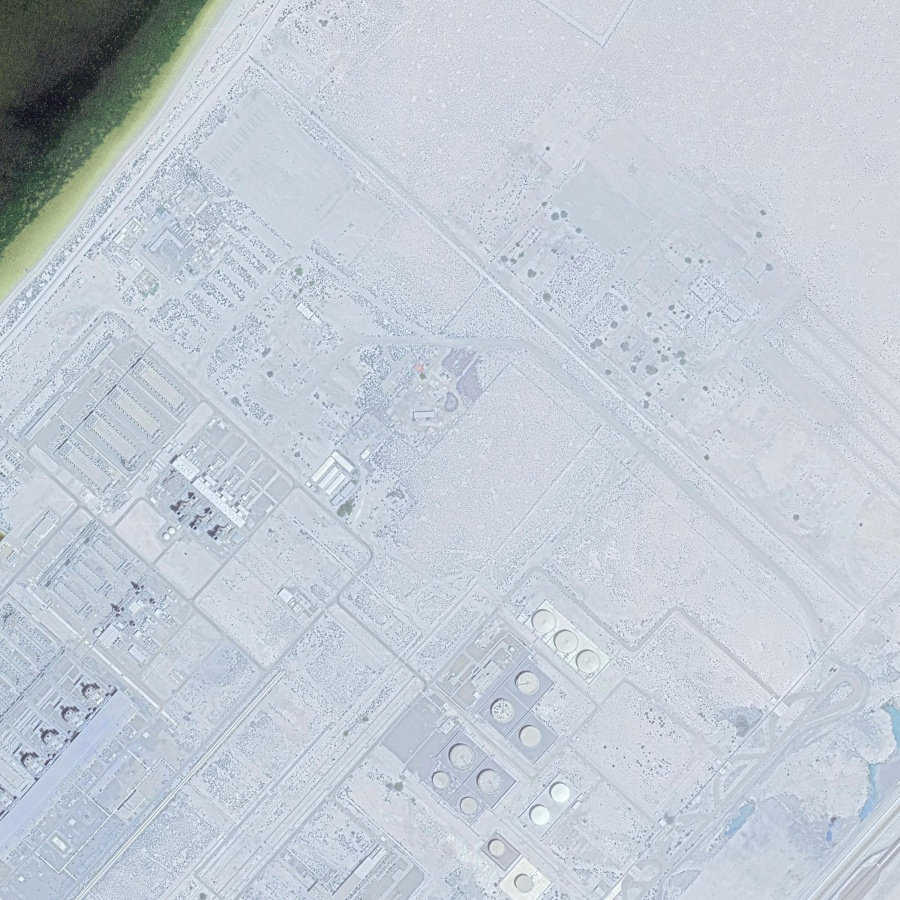PowerPlant: (420, 603, 632, 900)
